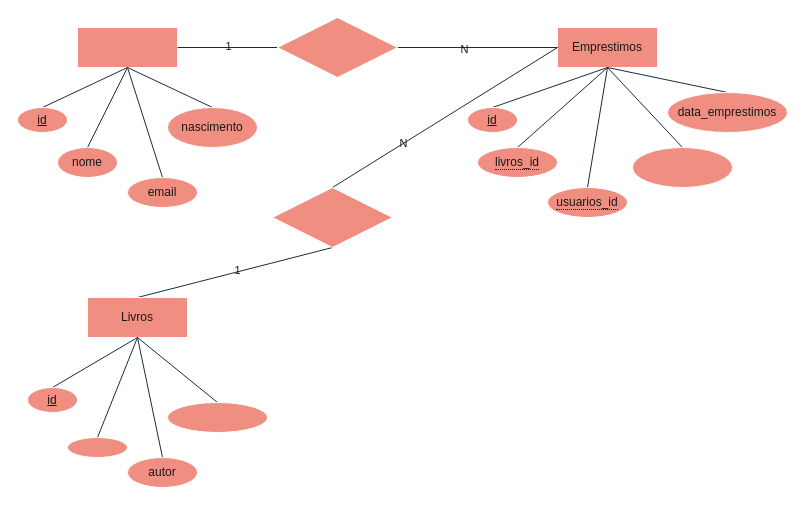
Some shapes in this 805 by 505 pixel diagram are drawn without their labels. The shapes that lost their labels are listed below. From the top down, each one's centre as x and y in pixels, then its label:
pixel 127 47: Usuarios
pixel 337 47: Faz
pixel 682 167: data_devolucao
pixel 332 217: Possui
pixel 217 417: publicacao
pixel 97 447: titulo
